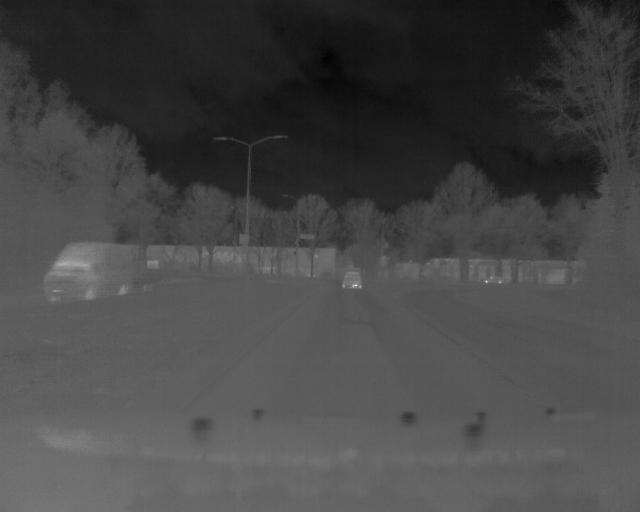car: (36, 233, 150, 307), (341, 265, 367, 291), (481, 275, 505, 287)
